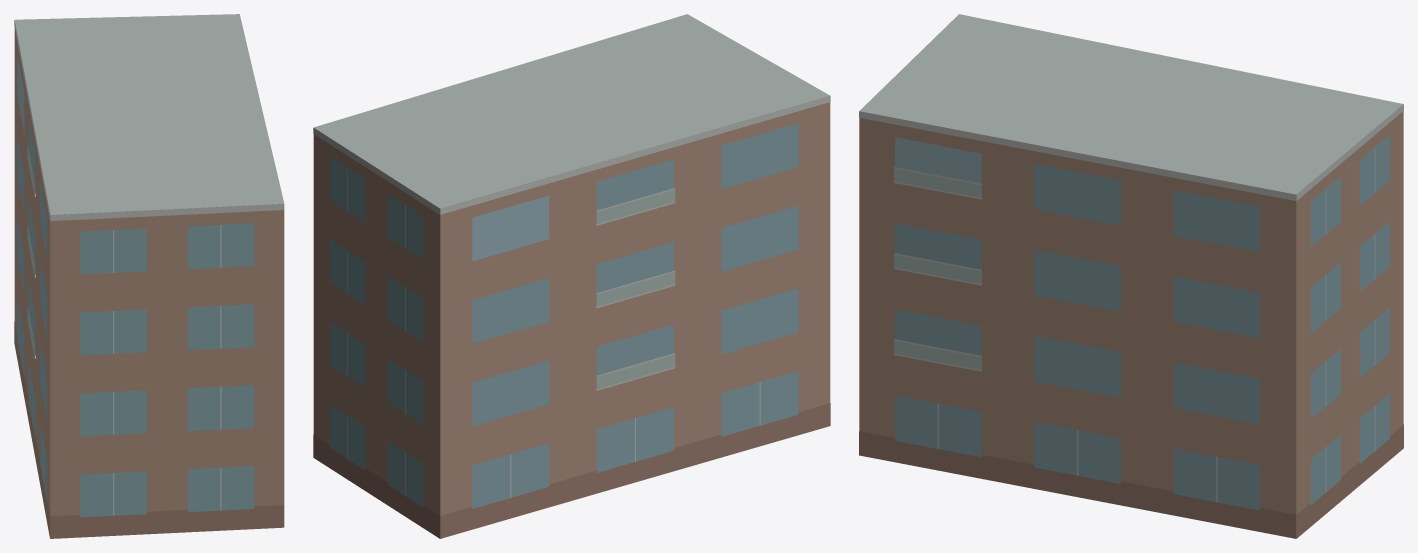
Rendered from survey-upis-32702710.glb.
3 renders of one model, left to right at view 1: azimuth 30°, elevation 25°; view 2: azimuth 150°, elevation 25°; view 3: azimuth 270°, elevation 25°, orthographic. The views are drawn at different scales.
Parts seen in each view (by area): view 1: survey-upis-32702710.tmp; view 2: survey-upis-32702710.tmp; view 3: survey-upis-32702710.tmp.
Part boxes in pixels (x1,y1,x2,y2): survey-upis-32702710.tmp: (14,14,284,538); survey-upis-32702710.tmp: (313,14,830,538); survey-upis-32702710.tmp: (859,14,1403,538).
Bounding box in the file's own units: 14.42 × 12.8 × 18.36.
